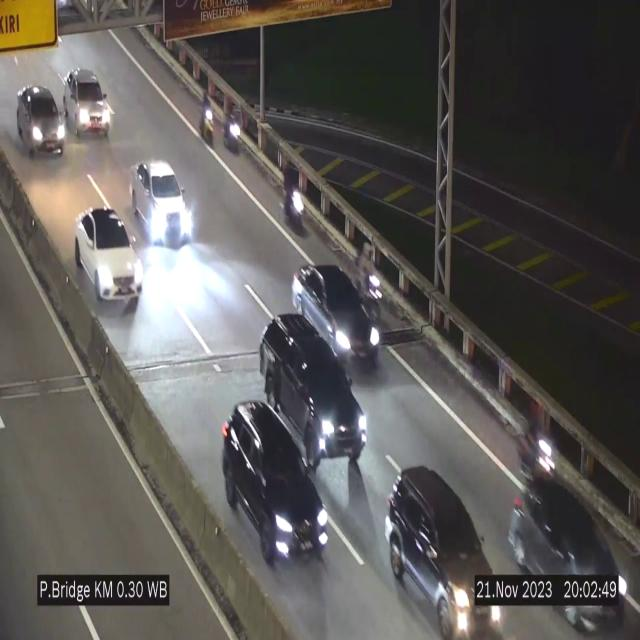Car: (382, 460, 503, 640), (502, 467, 632, 633), (221, 398, 331, 570), (256, 311, 370, 473), (291, 261, 382, 369), (76, 207, 142, 302), (133, 160, 195, 244), (18, 84, 68, 174), (65, 70, 109, 139)
Motorcycle: (517, 399, 556, 486), (356, 240, 383, 321), (280, 159, 307, 232), (221, 93, 241, 155), (198, 86, 215, 149)
